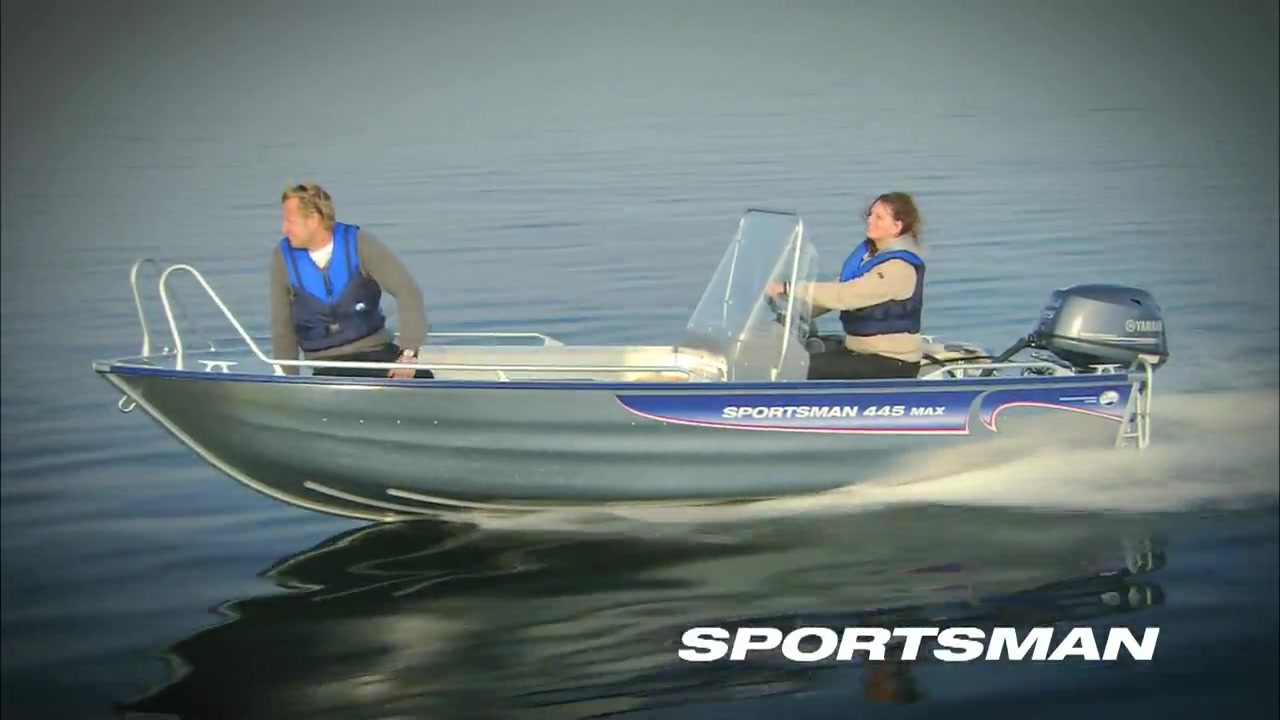boat: (95, 203, 1173, 518)
